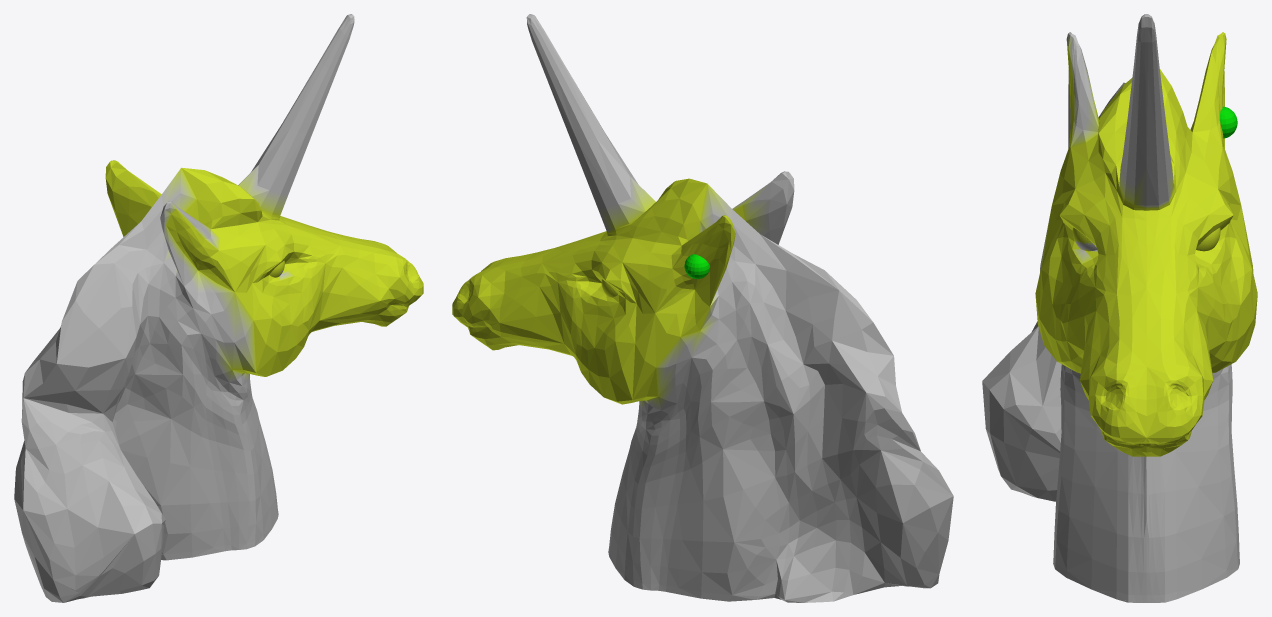
Rendered from unicorn_dift.glb.
3 renders of one model, left to right at view 1: azimuth 30°, elevation 25°; view 2: azimuth 150°, elevation 25°; view 3: azimuth 270°, elevation 25°, orthographic. The views are drawn at different scales.
Size of the model in its own units: 1.42 by 1.51 by 0.5923.
